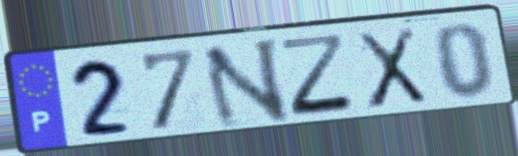0: (430, 20, 499, 103)
2: (66, 56, 140, 143)
7: (140, 46, 200, 136)
N: (198, 34, 293, 132)
X: (352, 24, 430, 113)
Z: (276, 31, 361, 120)
